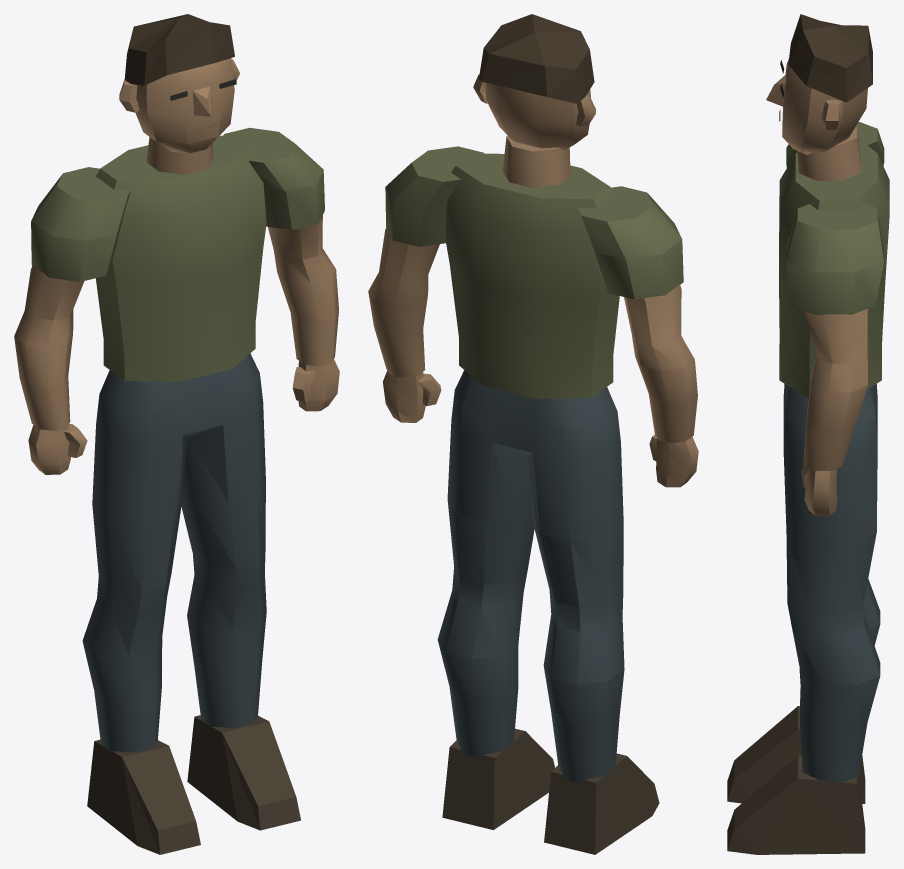
Rendered from human_accepted_static.glb.
3 views of the same model, side by side, from view 1: azimuth 30°, elevation 25°; view 2: azimuth 150°, elevation 25°; view 3: azimuth 270°, elevation 25° (orthographic).
Parts seen in each view (by area): view 1: Human_01; view 2: Human_01; view 3: Human_01.
Boxes of the visible parts, <box> form: Human_01: <box>14,14,339,854</box>; Human_01: <box>368,14,698,854</box>; Human_01: <box>727,14,889,854</box>.
Bounding box in the file's own units: 0.713 × 1.72 × 0.3191.
